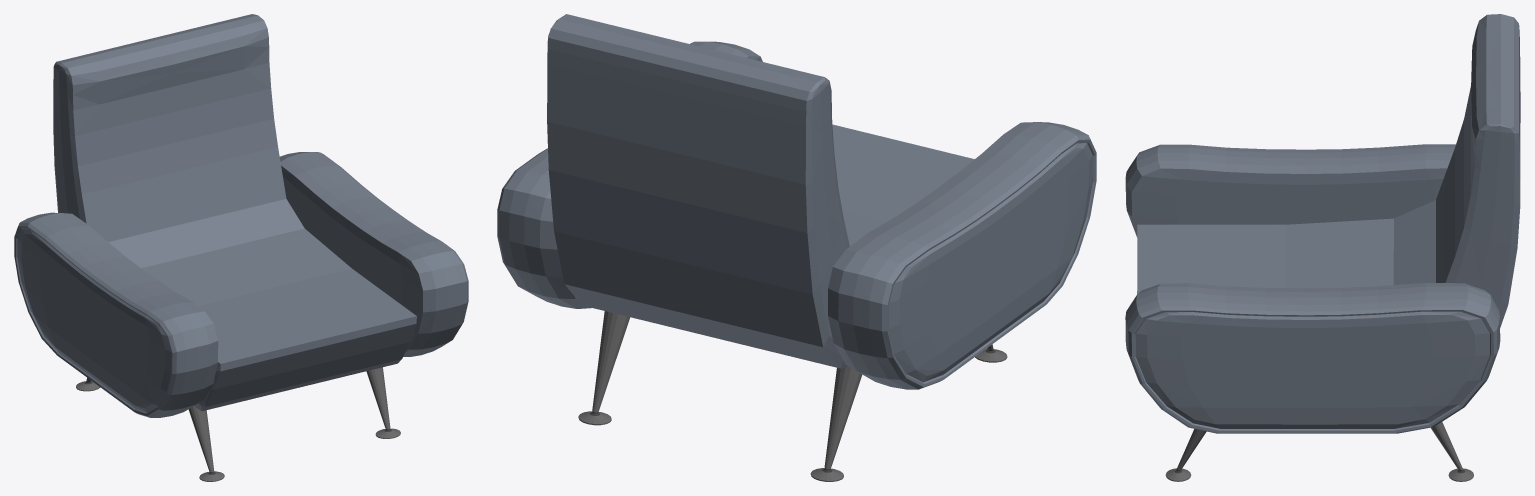
File: sh-scopia-armchair3.glb
The picture shows the model from 3 angles, left to right: view 1: azimuth 30°, elevation 25°; view 2: azimuth 150°, elevation 25°; view 3: azimuth 270°, elevation 25°; orthographic projection. The views are drawn at different scales.
Parts seen in each view (by area): view 1: sofa_zul_Cube.040_sof, sofa_zul_potas_Tu; view 2: sofa_zul_Cube.040_sof, sofa_zul_potas_Tu; view 3: sofa_zul_Cube.040_sof, sofa_zul_potas_Tu.
Part boxes in pixels (left/top/right/bottom): sofa_zul_Cube.040_sof: left=14, top=14, right=468, bottom=417; sofa_zul_potas_Tu: left=76, top=367, right=400, bottom=481; sofa_zul_Cube.040_sof: left=497, top=14, right=1096, bottom=389; sofa_zul_potas_Tu: left=578, top=311, right=1007, bottom=481; sofa_zul_Cube.040_sof: left=1125, top=14, right=1520, bottom=433; sofa_zul_potas_Tu: left=1165, top=422, right=1473, bottom=481.
Size of the model in its own units: 1 by 1 by 1.
